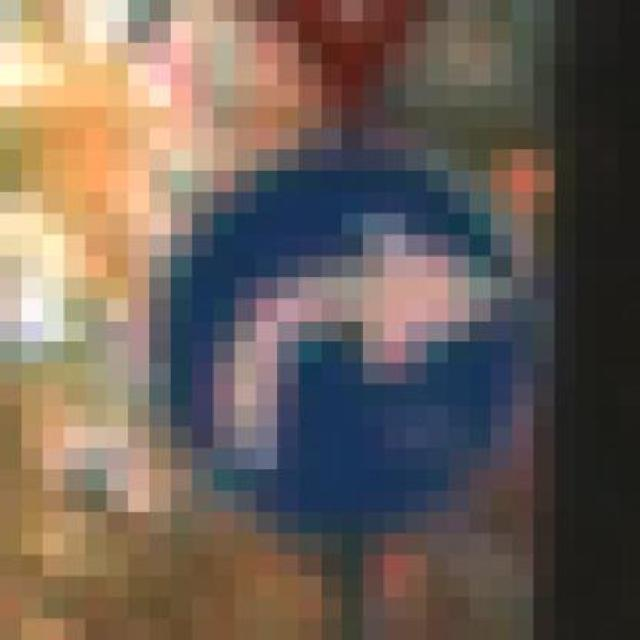Turn right ahead: (128, 86, 534, 576)
